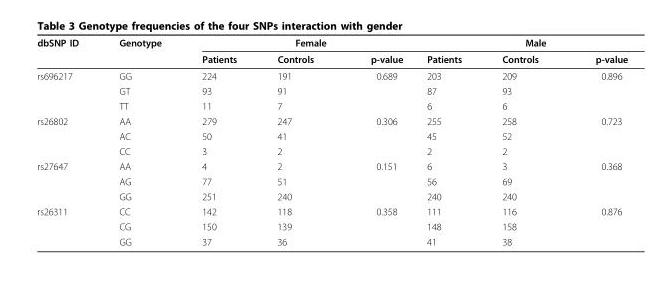table: (36, 36, 627, 246)
table column: (256, 36, 341, 246), (481, 36, 566, 246), (98, 36, 181, 246), (181, 36, 256, 246), (341, 36, 414, 246), (414, 36, 481, 246), (36, 36, 98, 246), (566, 36, 627, 246)
table column header: (36, 36, 627, 67)
table row: (36, 50, 627, 67), (36, 67, 627, 83), (36, 83, 627, 98), (36, 98, 627, 113), (36, 113, 627, 128), (36, 128, 627, 143), (36, 143, 627, 158), (36, 158, 627, 173), (36, 173, 627, 188), (36, 188, 627, 203), (36, 203, 627, 218), (36, 218, 627, 233), (36, 36, 627, 50), (36, 233, 627, 246)
table spanning cell: (181, 36, 414, 50), (414, 36, 627, 50), (36, 67, 98, 113), (36, 113, 98, 158), (36, 158, 98, 203), (36, 203, 98, 246), (98, 36, 181, 67), (36, 36, 98, 67)
